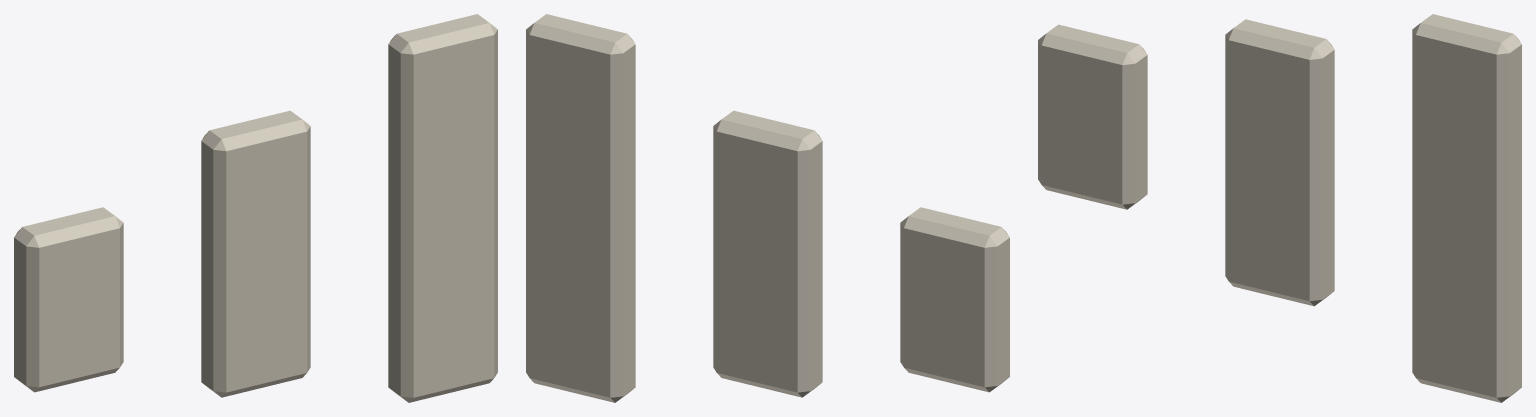
The model's file is countdown.glb.
3 renders of one model, left to right at view 1: azimuth 30°, elevation 25°; view 2: azimuth 150°, elevation 25°; view 3: azimuth 330°, elevation 25°, orthographic.
Parts seen in each view (by area): view 1: countdown; view 2: countdown; view 3: countdown.
Boxes of the visible parts, box(x1,y1,x2,y2) form: countdown: box(14, 14, 497, 402); countdown: box(526, 14, 1009, 402); countdown: box(1038, 14, 1521, 402).
Bounding box in the file's own units: 0.2835 × 0.207 × 0.0225.
